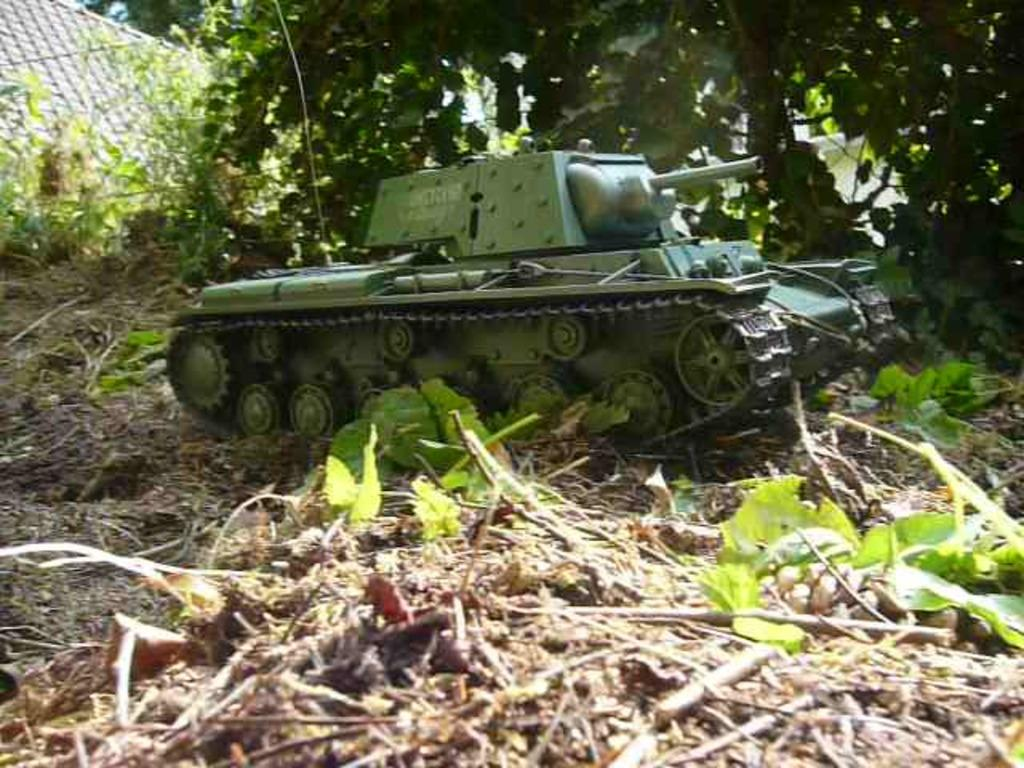Tank: (168, 133, 902, 453)
